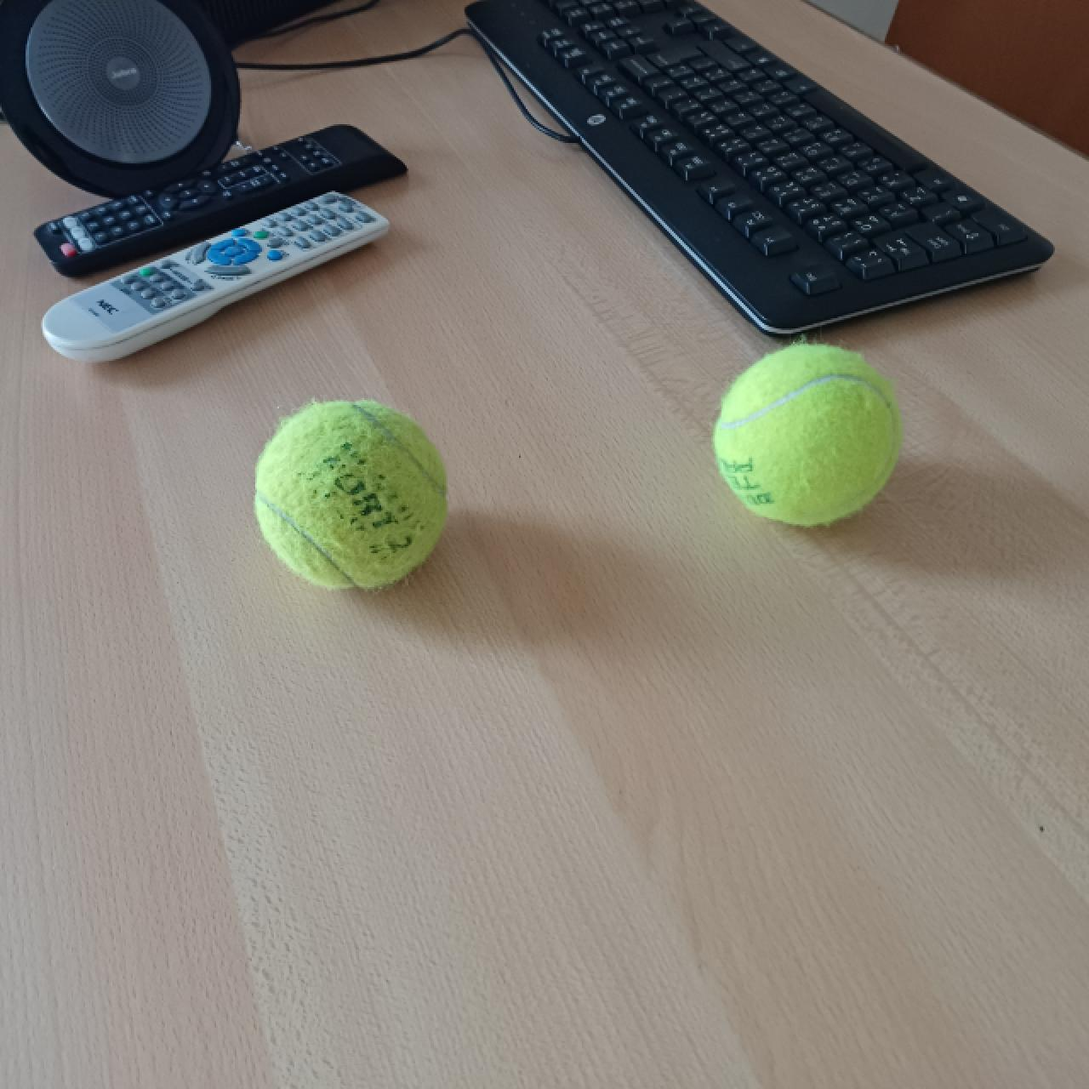tennis-ball: (249, 396, 451, 592), (711, 338, 905, 529)
